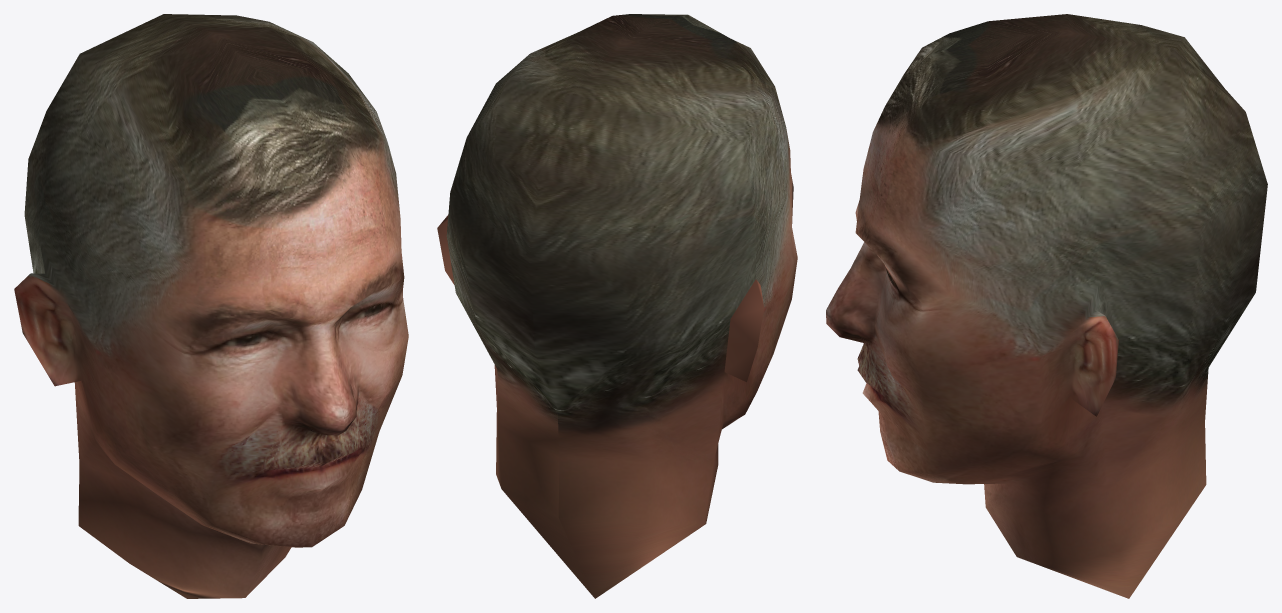
Rendered from FGS_head.fbx.
3 renders of one model, left to right at view 1: azimuth 30°, elevation 25°; view 2: azimuth 150°, elevation 25°; view 3: azimuth 270°, elevation 25°, orthographic. The views are drawn at different scales.
Visible parts, largest first — view 1: head; view 2: head; view 3: head.
Boxes of the visible parts, x1,y1,x2,y2 form: head: [14, 14, 408, 598]; head: [437, 14, 797, 598]; head: [826, 14, 1267, 598].
Bounding box in the file's own units: 21.31 × 33.41 × 23.6.
